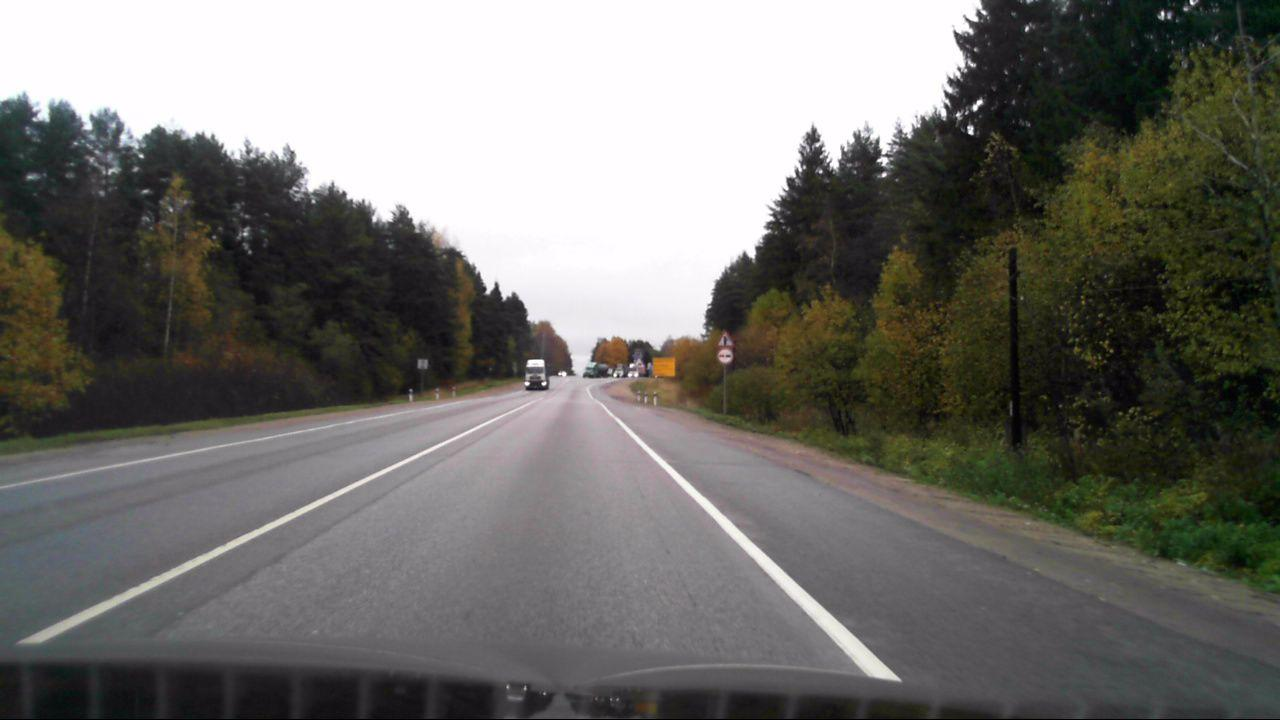2_3_4: (716, 329, 734, 348)
3_20: (717, 349, 734, 365)
